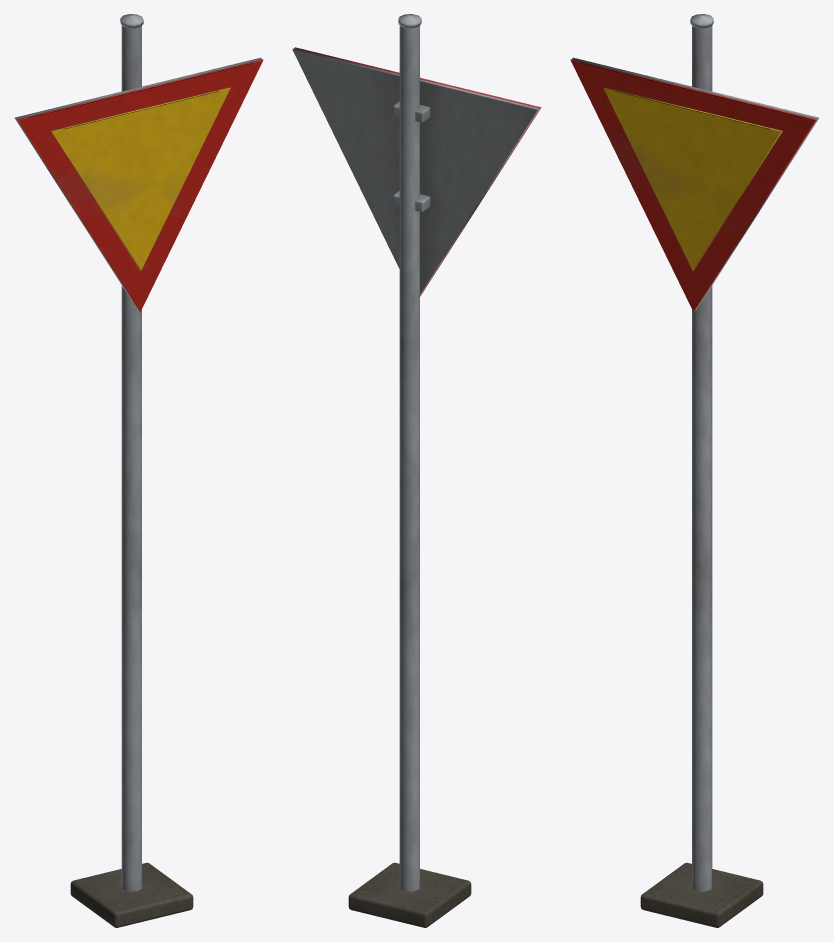
Rendered from znak_ustap.glb.
3 views of the same model, side by side, from view 1: azimuth 30°, elevation 25°; view 2: azimuth 150°, elevation 25°; view 3: azimuth 330°, elevation 25° (orthographic).
Visible parts, largest first — view 1: Tarcza, Slupek; view 2: Slupek, Tarcza; view 3: Tarcza, Slupek.
Boxes of the visible parts, x1,y1,x2,y2 form: Tarcza: (17,59,263,311); Slupek: (14,14,261,927); Slupek: (292,14,539,927); Tarcza: (294,47,541,296); Tarcza: (570,59,816,311); Slupek: (572,14,819,927).
Size of the model in its own units: 0.8069 by 2.78 by 0.26.
2 materials, 2 textured.
